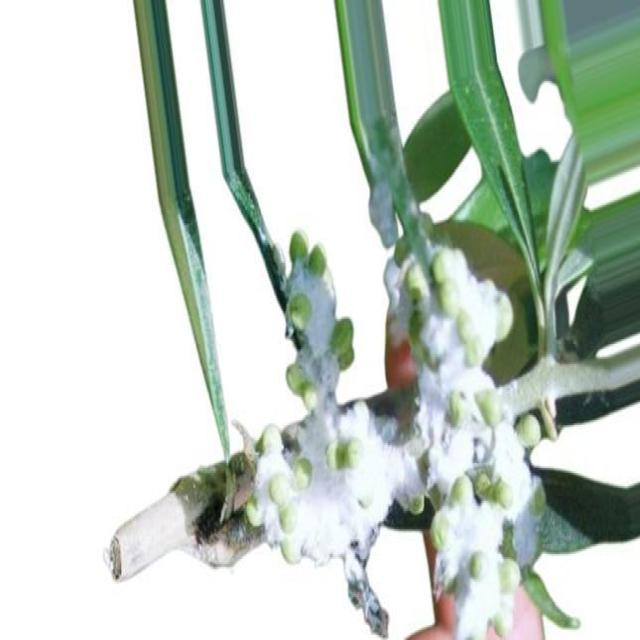Psyllid: (254, 389, 426, 635), (406, 368, 546, 638), (381, 215, 513, 386), (284, 228, 353, 408)
